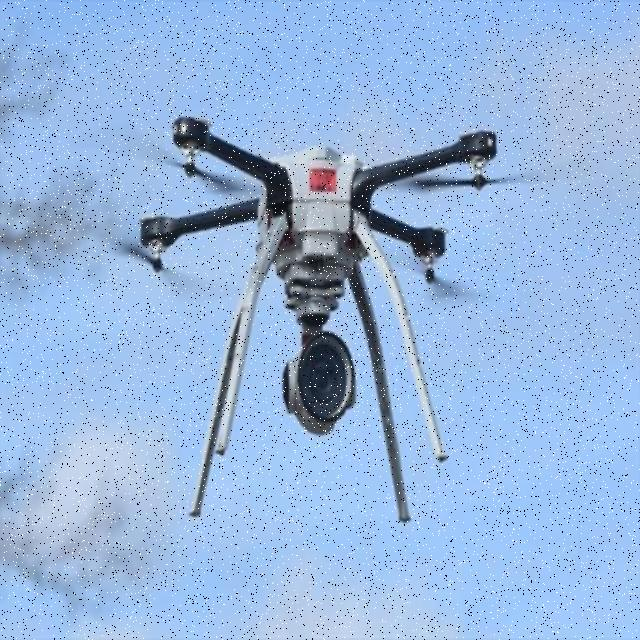UAV: (138, 112, 500, 519)
